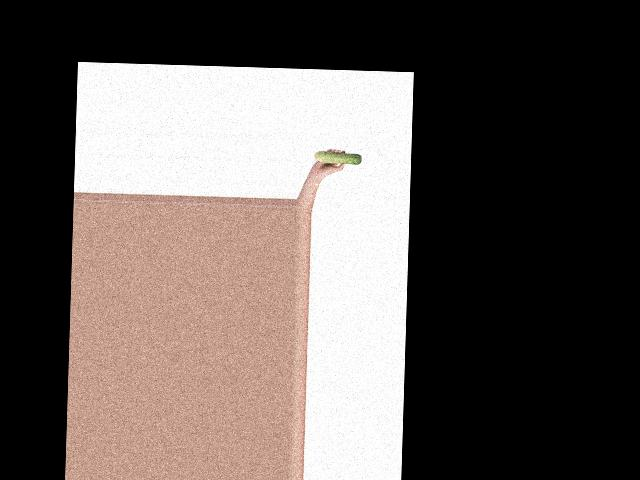cucumber: (313, 151, 362, 165)
